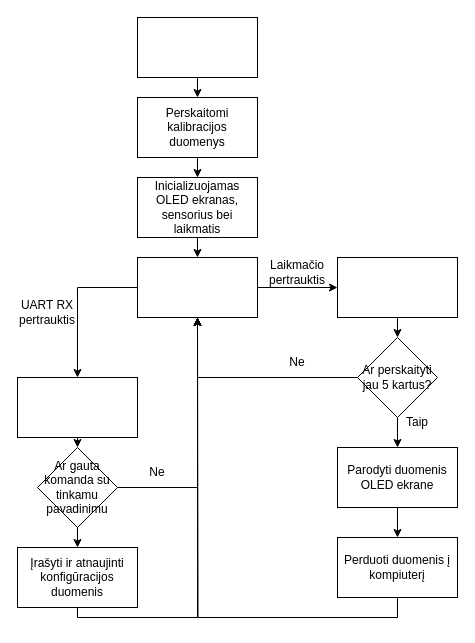
Some shapes in this 475 by 643 pixel diagram are drawn without their labels. The shapes that lost their labels are listed below. From the top down, each one's box as (x1, y1, x2, y2) in pixels, then its label:
(136, 16, 258, 78): Pradžia
(136, 256, 258, 318): Miego režimas
(336, 256, 458, 318): Perskaityti sensoriaus duomenis
(16, 376, 138, 438): Perskaitomi gauti UART duomenys iš kompiuterio
